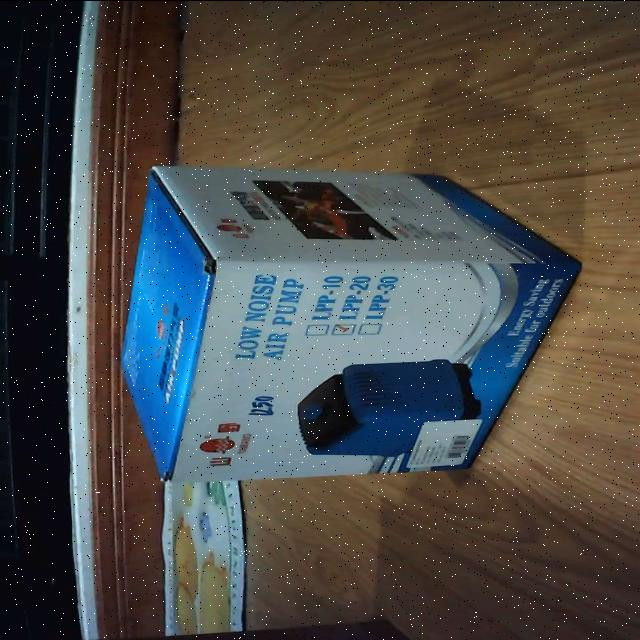YAMANO_LPP_20: (104, 156, 596, 484)
